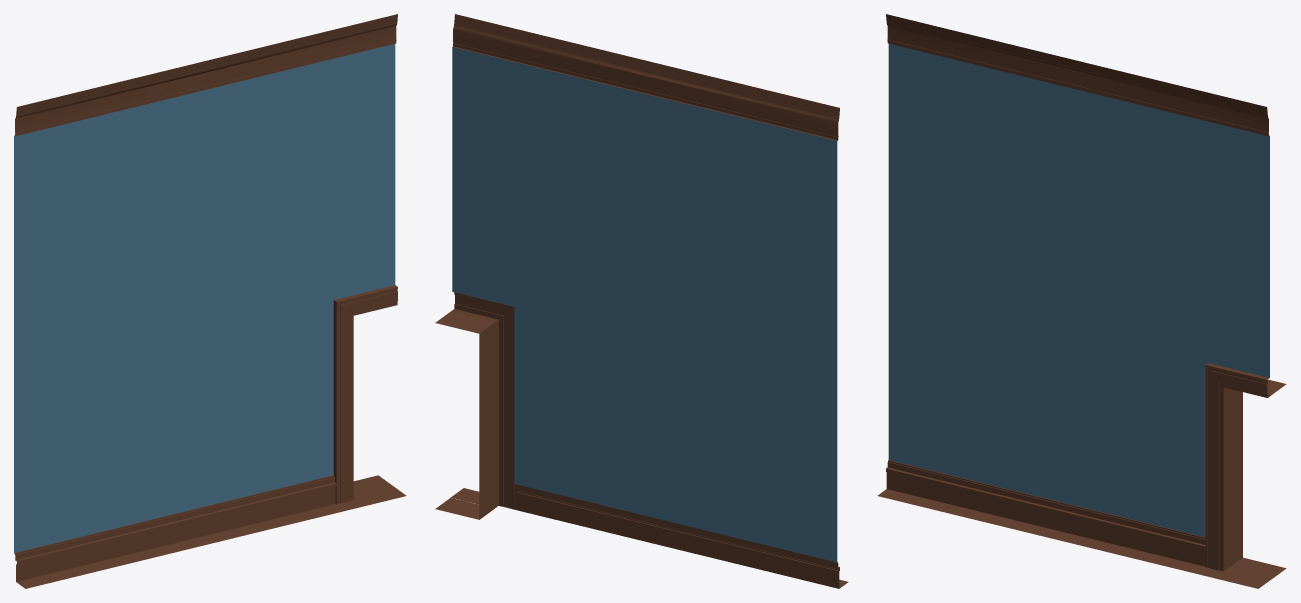
Rendered from Tile05_fix.fbx.
The picture shows the model from 3 angles, left to right: view 1: azimuth 30°, elevation 25°; view 2: azimuth 150°, elevation 25°; view 3: azimuth 330°, elevation 25°; orthographic projection.
Parts seen in each view (by area): view 1: Tile5; view 2: Tile5; view 3: Tile5.
Part boxes in pixels (x1,y1,x2,y2): Tile5: (14, 14, 406, 588); Tile5: (435, 14, 848, 588); Tile5: (877, 14, 1286, 588).
Bounding box in the file's own units: 650 × 775 × 83.87.
